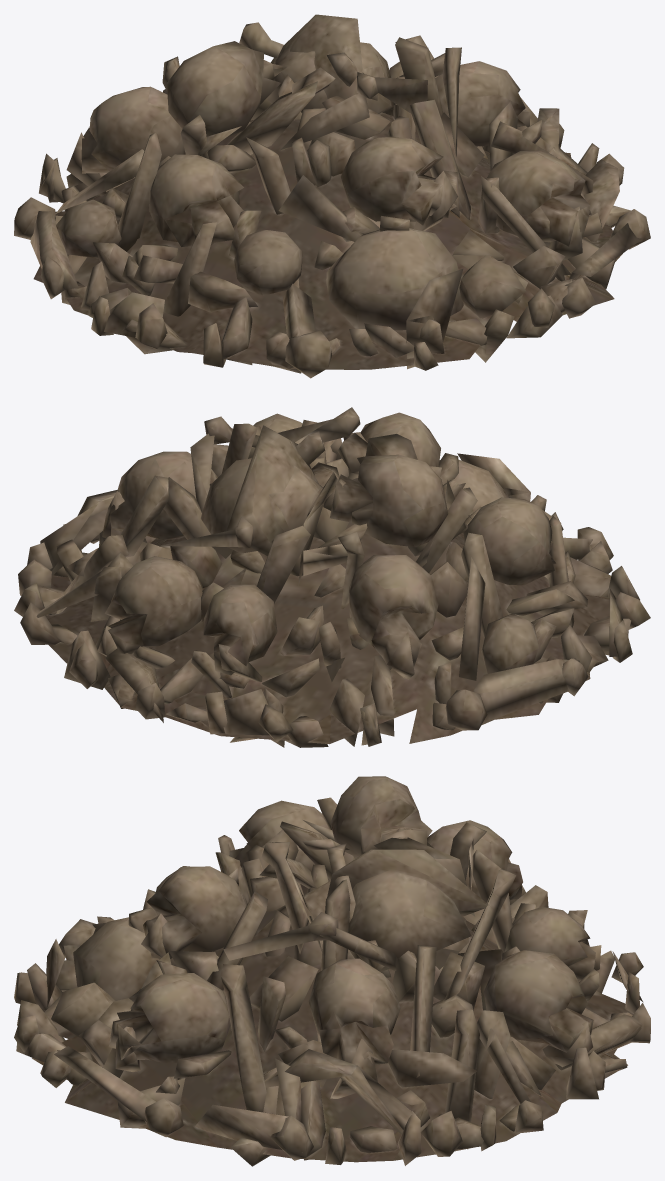
The model's file is p_skullpile.glb.
3 views of the same model, one above another, from view 1: azimuth 30°, elevation 25°; view 2: azimuth 150°, elevation 25°; view 3: azimuth 270°, elevation 25° (orthographic). The views are drawn at different scales.
Visible parts, largest first — view 1: p_skullpile; view 2: p_skullpile; view 3: p_skullpile.
Part boxes in pixels (box(x1,y1,x2,y2)): p_skullpile: box(14, 14, 650, 378); p_skullpile: box(14, 407, 650, 747); p_skullpile: box(14, 776, 650, 1166).
Bounding box in the file's own units: 0.8 × 0.3273 × 0.8.
1 material, 1 textured.
